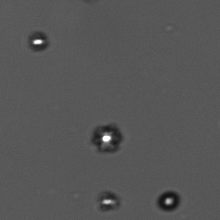Living Cell: (92, 123, 122, 153), (157, 187, 181, 212), (97, 189, 122, 212), (29, 30, 48, 52)
